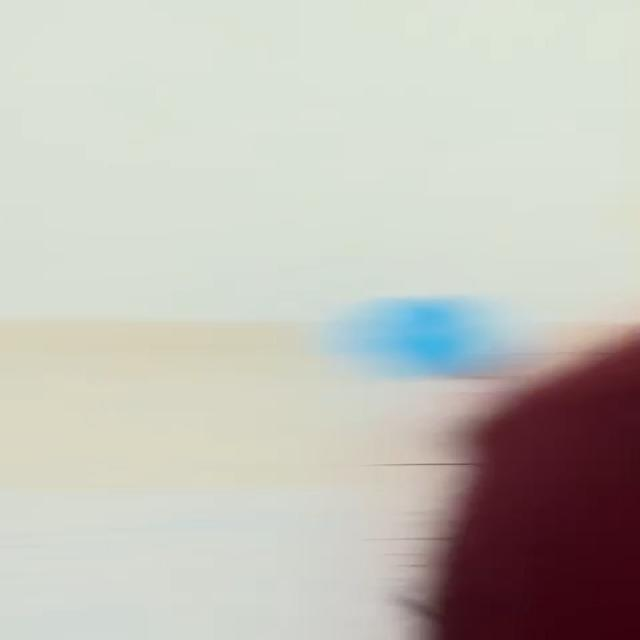authorized: (419, 321, 637, 638)
